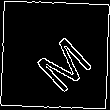M_NW: (21, 20, 89, 90)
